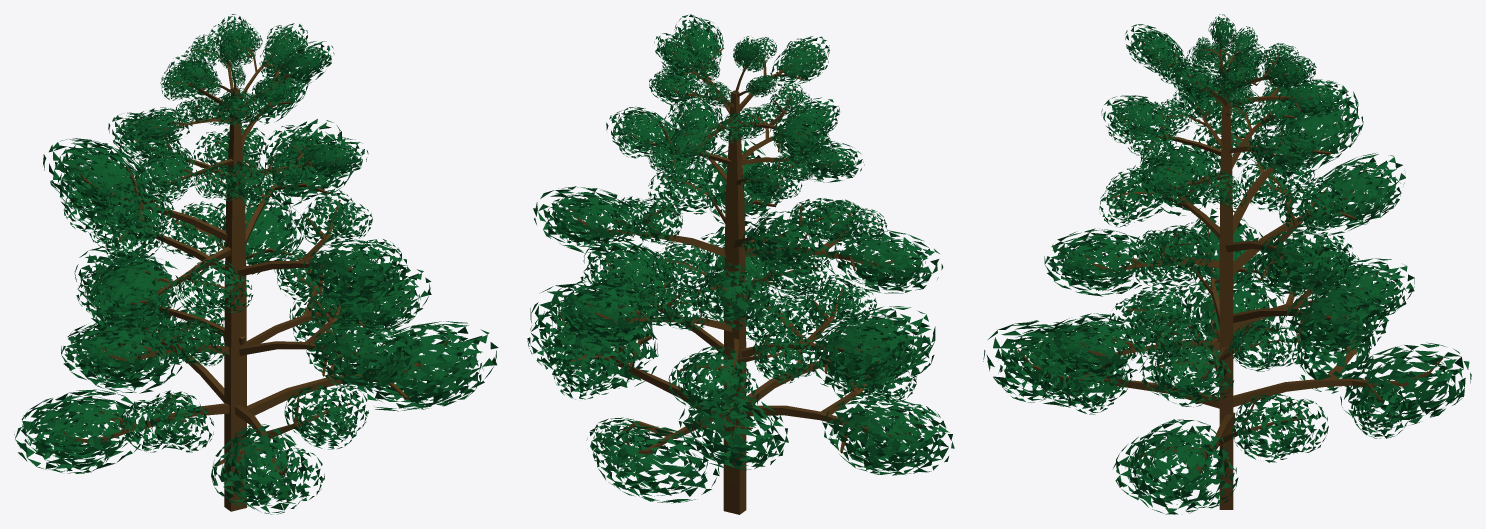
Rendered from tree2.fbx.
3 renders of one model, left to right at view 1: azimuth 30°, elevation 25°; view 2: azimuth 150°, elevation 25°; view 3: azimuth 270°, elevation 25°, orthographic. The views are drawn at different scales.
Parts seen in each view (by area): view 1: tree2; view 2: tree2; view 3: tree2.
Boxes of the visible parts, x1=… form: tree2: x1=14, y1=14, x2=498, y2=514; tree2: x1=527, y1=14, x2=954, y2=514; tree2: x1=983, y1=14, x2=1471, y2=514.
Size of the model in its own units: 0.0521 by 0.0529 by 0.0482.
